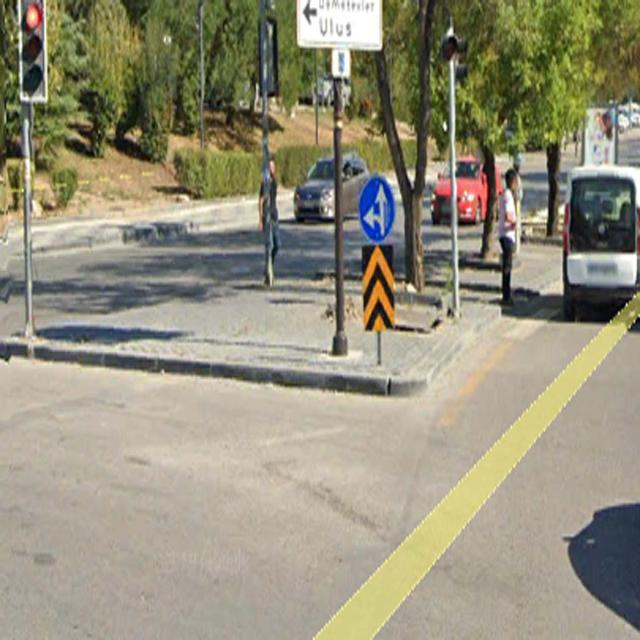ilerisol: (359, 177, 396, 242)
kirmizi: (18, 1, 47, 101)
